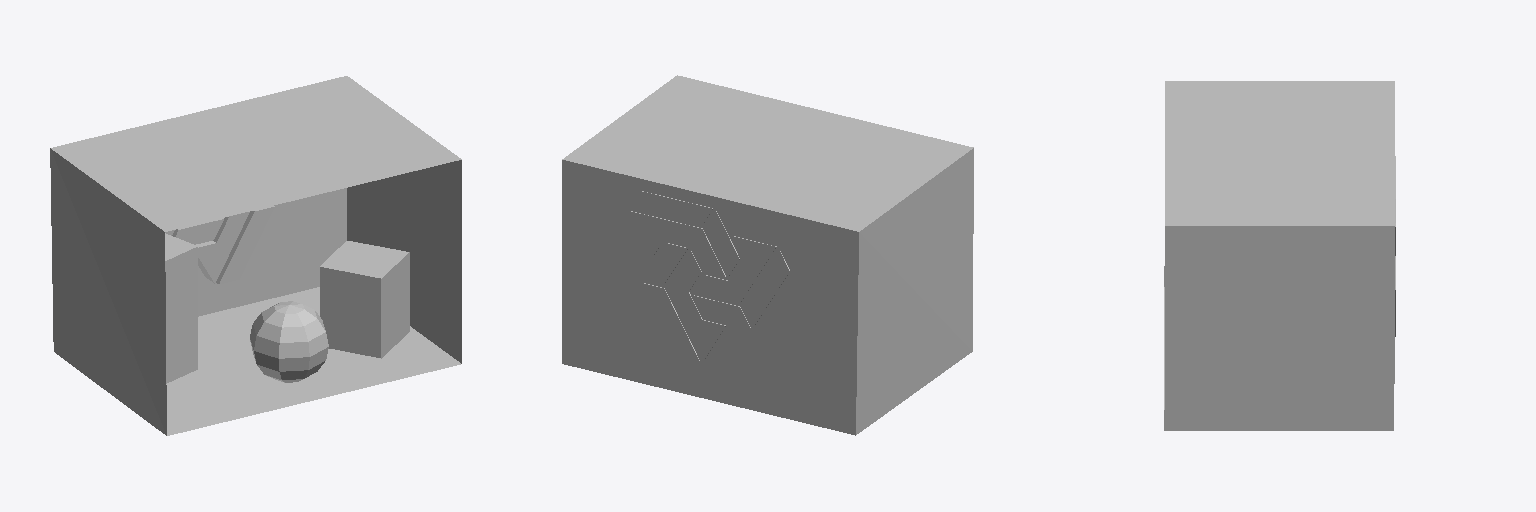
The model's file is luciCornellBox2.obj.
3 views of the same model, side by side, from view 1: azimuth 30°, elevation 25°; view 2: azimuth 150°, elevation 25°; view 3: azimuth 270°, elevation 25° (orthographic).
Visible parts, largest first — view 1: ceiling, left_wall, floor, right_wall, back_wall, short_box, sphere, tall_box, logo.001; view 2: back_wall, ceiling, left_wall, logo.001; view 3: right_wall, ceiling.
Part boxes in pixels (bbox=[...]): ceiling: bbox=[51, 76, 461, 231]; left_wall: bbox=[50, 148, 166, 435]; floor: bbox=[166, 287, 460, 435]; right_wall: bbox=[347, 160, 461, 363]; back_wall: bbox=[198, 188, 346, 316]; short_box: bbox=[320, 241, 409, 358]; sphere: bbox=[250, 301, 328, 382]; tall_box: bbox=[165, 233, 197, 383]; logo.001: bbox=[165, 206, 274, 283]; back_wall: bbox=[562, 160, 858, 435]; ceiling: bbox=[562, 75, 973, 231]; left_wall: bbox=[856, 148, 973, 434]; logo.001: bbox=[631, 191, 789, 361]; right_wall: bbox=[1164, 226, 1394, 430]; ceiling: bbox=[1165, 81, 1394, 225].
Bounding box in the file's own units: 8.34 × 5.49 × 5.62.